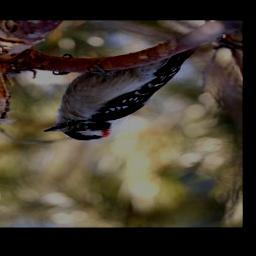Woodpecker: (44, 45, 197, 140)
